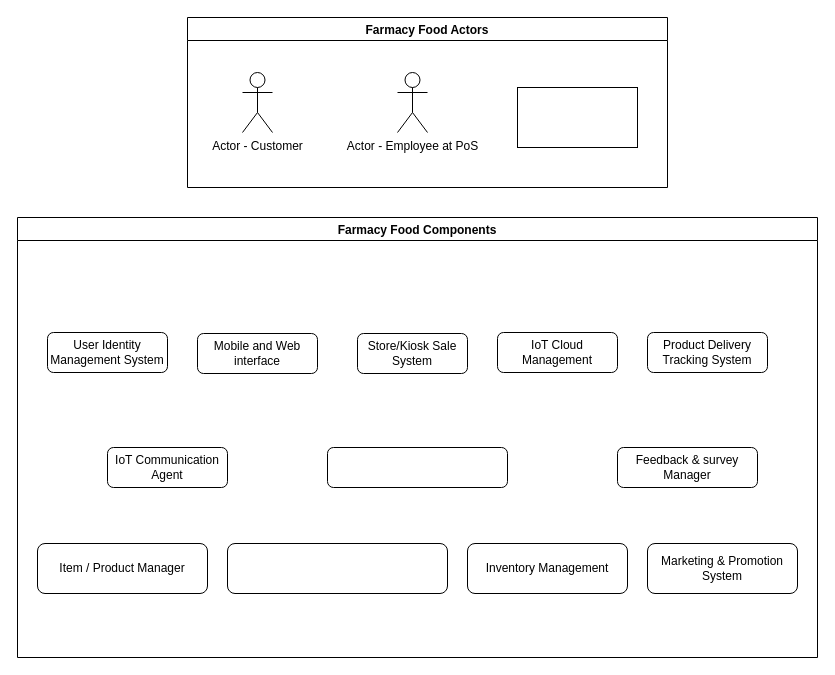
The diagram is 835 pixels wide and 675 high, and some of its shapes have lost their labels. The centre of each missing label's shape, as x and y in pixels:
Food-order Management Engine: (x=337, y=568)
IoT Devices (Smart Fridge): (x=577, y=117)
Payment Engine: (x=417, y=467)
